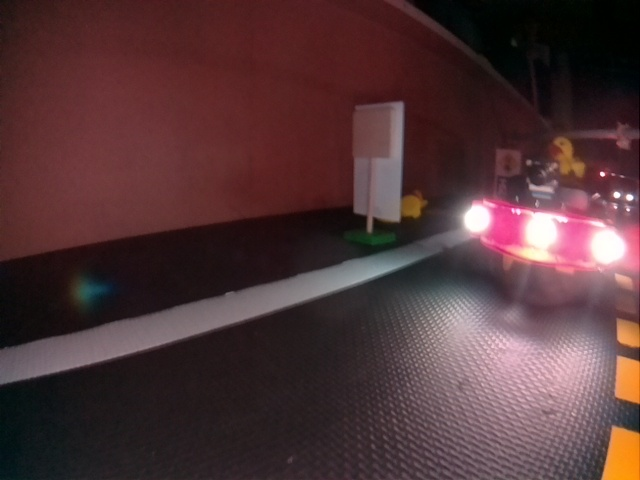Duckie: (553, 137, 586, 177)
Duckiebot: (465, 175, 630, 293)
